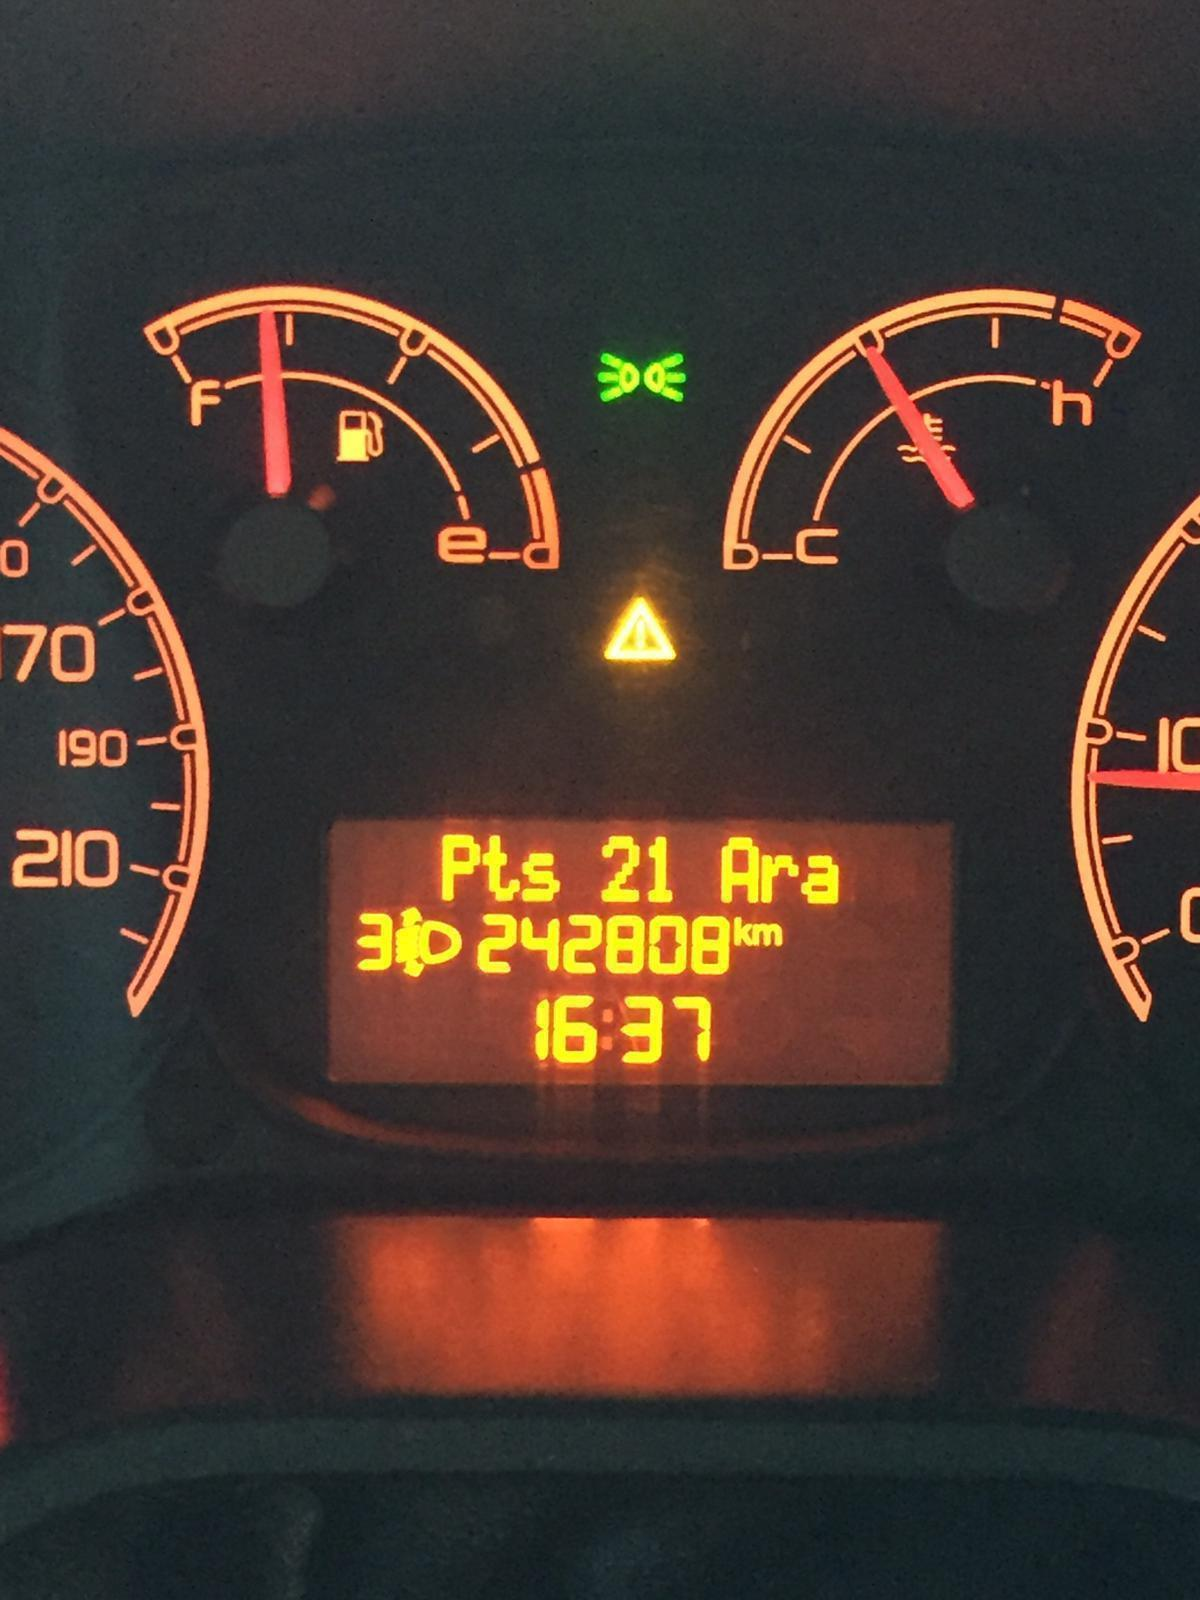0: (650, 906, 687, 976)
1: (645, 835, 674, 905), (534, 991, 551, 1063)
2: (599, 834, 642, 906), (563, 910, 601, 975), (478, 913, 516, 975)
3: (621, 990, 662, 1070), (358, 906, 392, 973)
4: (519, 910, 560, 973)
6: (553, 994, 596, 1065)
7: (672, 991, 713, 1067)
8: (605, 911, 645, 975), (691, 912, 727, 976)
X: (717, 831, 760, 902), (485, 829, 522, 902), (442, 831, 479, 900), (800, 853, 845, 908), (524, 847, 566, 903), (760, 850, 799, 903), (597, 997, 618, 1054), (751, 922, 783, 949), (731, 913, 753, 945)
odometer: (311, 806, 966, 1106)
